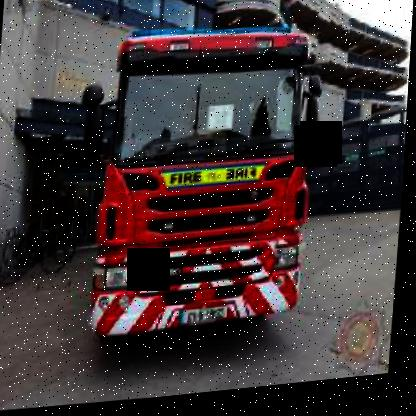emergency: (80, 1, 339, 360)
